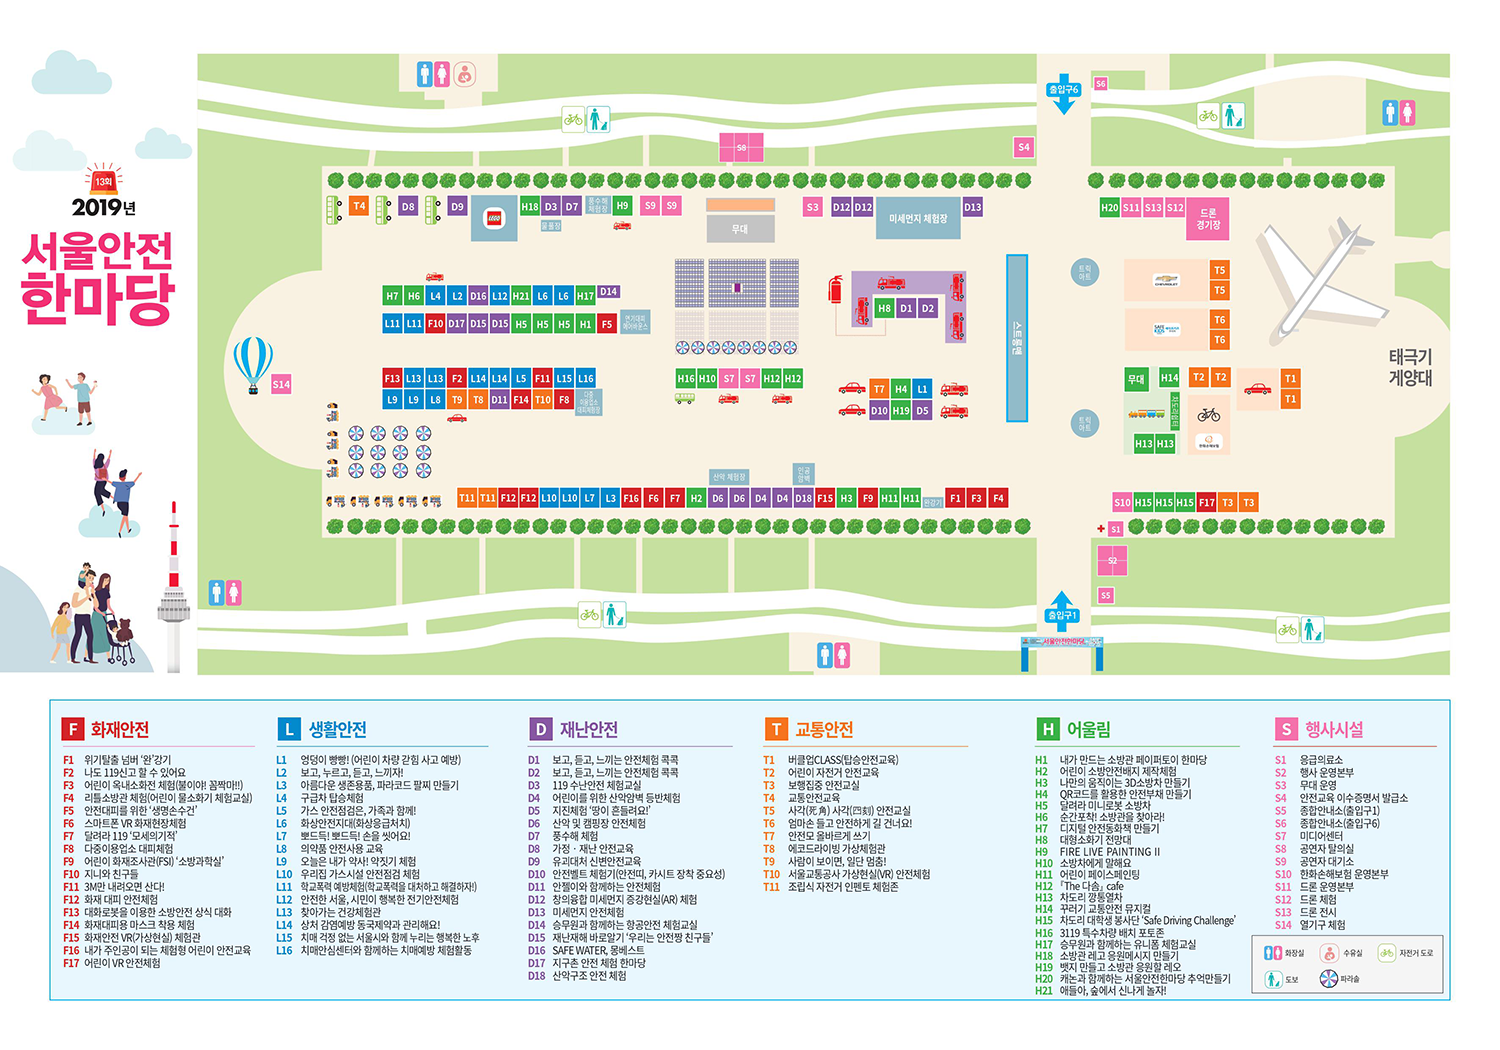booth: (850, 270, 967, 344), (1006, 254, 1029, 421), (1124, 259, 1207, 301), (879, 200, 960, 241), (1126, 310, 1207, 350), (1125, 394, 1177, 455), (1190, 394, 1231, 455), (470, 196, 517, 241), (1187, 198, 1229, 241), (1238, 371, 1278, 409), (719, 133, 765, 164), (1097, 546, 1127, 575), (1070, 409, 1100, 438), (1071, 258, 1099, 288), (619, 309, 650, 334), (708, 469, 749, 486), (576, 389, 602, 415), (791, 459, 817, 486), (345, 194, 374, 218), (394, 193, 423, 217), (443, 193, 472, 217), (582, 193, 610, 215), (964, 486, 987, 508), (943, 487, 967, 508), (900, 488, 923, 510), (600, 487, 622, 508), (517, 487, 540, 508), (476, 487, 499, 508), (574, 284, 597, 306), (621, 487, 643, 508), (579, 486, 601, 507), (559, 486, 580, 507), (539, 487, 561, 508), (498, 487, 520, 508), (553, 285, 574, 307), (878, 488, 900, 508), (447, 283, 467, 306), (468, 283, 489, 306), (1153, 493, 1175, 513), (1175, 491, 1197, 512), (857, 487, 879, 507), (835, 488, 857, 508), (457, 488, 479, 508), (511, 284, 531, 306), (739, 368, 760, 389), (802, 196, 824, 217), (830, 196, 851, 217), (851, 197, 873, 218), (869, 379, 889, 400), (869, 400, 890, 421), (912, 379, 934, 399), (897, 298, 918, 319), (918, 298, 938, 319), (1188, 367, 1210, 386), (1158, 368, 1181, 388), (1132, 434, 1155, 454), (1153, 434, 1176, 454), (1109, 491, 1132, 511), (1196, 491, 1218, 511), (1237, 493, 1259, 512), (490, 283, 509, 306), (718, 368, 739, 389), (761, 369, 782, 390), (784, 368, 805, 389), (891, 399, 912, 420), (890, 379, 911, 399), (913, 399, 934, 420), (874, 298, 895, 318), (1014, 137, 1035, 157), (1215, 493, 1237, 512), (446, 390, 467, 409), (509, 389, 531, 408), (553, 390, 574, 409), (574, 314, 596, 333), (509, 314, 531, 333), (446, 314, 467, 333), (403, 286, 425, 306), (425, 284, 445, 306), (532, 285, 552, 307), (772, 488, 792, 507), (750, 488, 771, 507), (708, 488, 728, 507), (665, 488, 685, 507), (643, 488, 663, 507), (382, 390, 402, 409), (424, 390, 445, 409), (467, 390, 488, 409), (489, 389, 509, 408), (532, 389, 553, 408), (533, 314, 554, 333), (489, 314, 509, 333), (467, 314, 488, 333), (424, 314, 445, 333), (271, 374, 292, 393), (521, 196, 540, 217), (563, 195, 582, 215), (641, 196, 660, 217), (676, 369, 695, 390), (698, 369, 717, 390), (446, 368, 467, 386), (509, 368, 531, 386), (574, 368, 596, 386), (382, 314, 403, 332), (381, 287, 402, 306), (663, 194, 682, 215), (816, 488, 835, 507), (794, 488, 814, 507), (729, 488, 749, 507), (686, 488, 706, 507), (403, 390, 423, 409), (426, 367, 446, 386), (1209, 260, 1230, 278), (1209, 280, 1230, 299), (1210, 310, 1231, 328), (1209, 331, 1230, 349), (989, 488, 1008, 508), (382, 368, 402, 386), (403, 368, 424, 386), (468, 368, 489, 386), (489, 368, 509, 386), (532, 368, 553, 386), (554, 368, 574, 386), (597, 314, 618, 332), (554, 314, 574, 332), (403, 314, 424, 332), (541, 196, 560, 217), (614, 196, 633, 217), (1120, 198, 1142, 215), (1164, 198, 1185, 215), (964, 198, 983, 218), (1143, 198, 1164, 215), (1280, 371, 1301, 388), (1134, 493, 1153, 510), (1213, 369, 1231, 386), (1100, 200, 1119, 215), (598, 284, 620, 298), (1097, 587, 1114, 604), (1107, 522, 1124, 538), (541, 220, 561, 231), (1278, 399, 1296, 410)
boundary: (199, 51, 1451, 673)
entrance: (1037, 602, 1087, 669), (1041, 62, 1091, 128)
exit: (1040, 56, 1089, 123), (1040, 604, 1089, 671)
food_area: (347, 424, 433, 480)
restroom: (405, 58, 496, 90), (793, 640, 878, 668), (1383, 101, 1417, 132), (207, 579, 242, 609)
seating: (674, 258, 798, 341), (674, 341, 798, 355)
stage: (706, 197, 775, 244)
